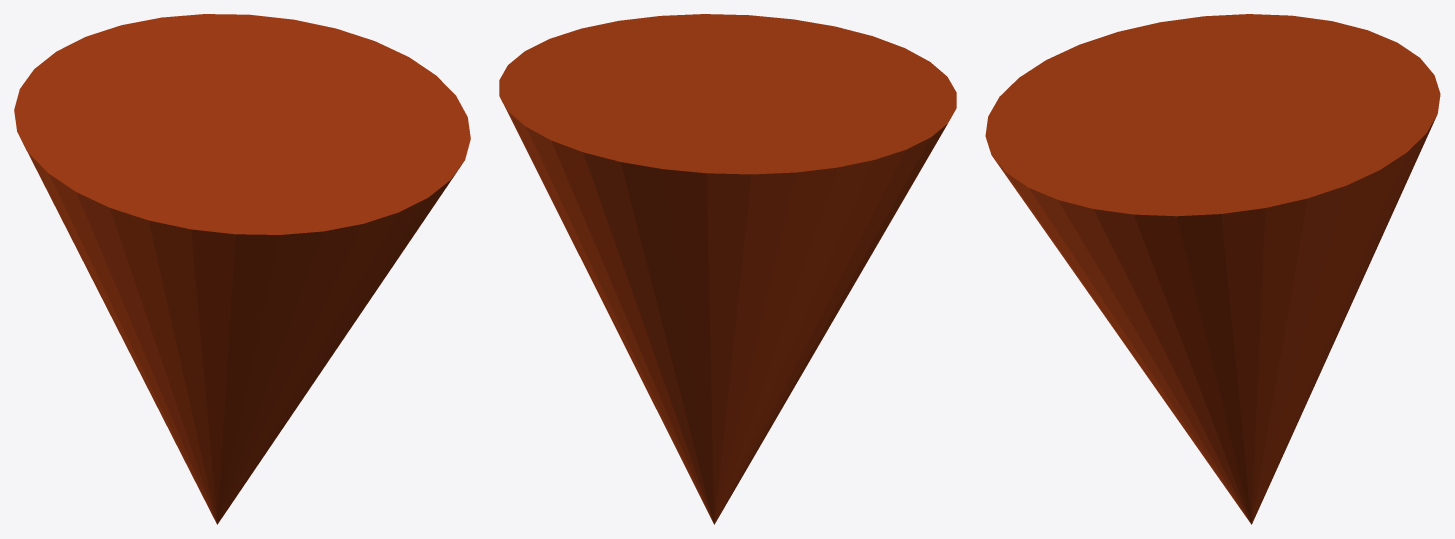
File: cono.obj
3 views of the same model, side by side, from view 1: azimuth 30°, elevation 25°; view 2: azimuth 150°, elevation 25°; view 3: azimuth 270°, elevation 25° (orthographic).
Visible parts, largest first — view 1: Cone; view 2: Cone; view 3: Cone.
Part boxes in pixels (x1,y1,x2,y2): Cone: [14, 14, 470, 524]; Cone: [499, 14, 956, 524]; Cone: [985, 14, 1440, 524].
Bounding box in the file's own units: 4.59 × 4.78 × 4.58.
